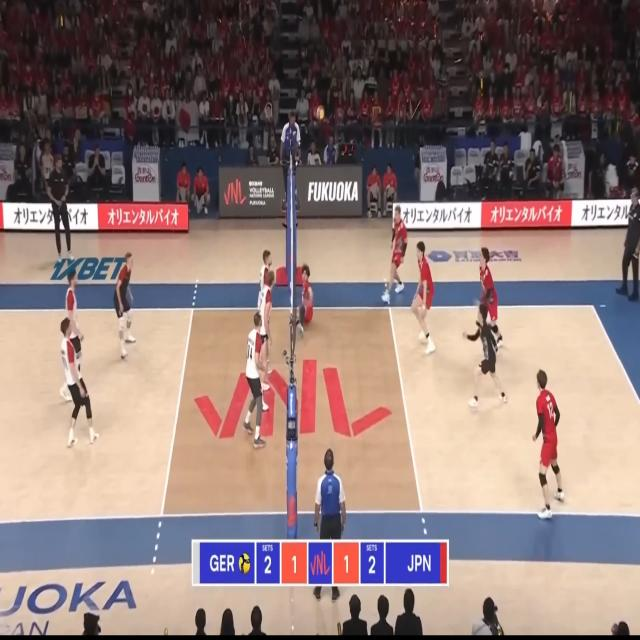ball: (317, 104, 324, 120)
